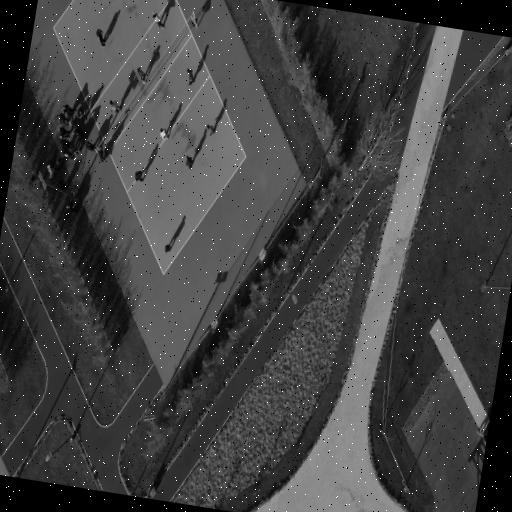person: (85, 140, 104, 160), (152, 11, 163, 27), (95, 29, 104, 46), (65, 197, 75, 212), (58, 126, 70, 138), (186, 68, 194, 85), (136, 67, 145, 82), (56, 111, 66, 124), (61, 140, 69, 156), (109, 100, 119, 112), (76, 106, 86, 118), (185, 155, 193, 169), (47, 163, 55, 177), (159, 128, 169, 139), (134, 170, 143, 180), (206, 124, 213, 135), (164, 243, 170, 252)
